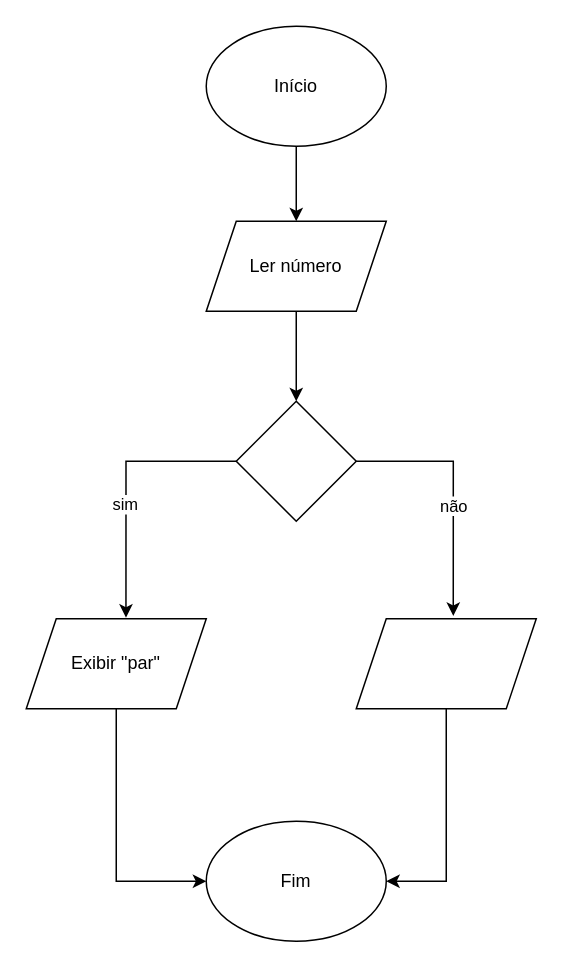
Some shapes in this 563 by 968 pixel diagram are drawn without their labels. The shapes that lost their labels are listed below. From the top down, each one's box as (x1, y1, x2, y2) in pixels, then its label:
(235, 400, 356, 521): Par?
(355, 617, 536, 709): Exibir "ímpar"
